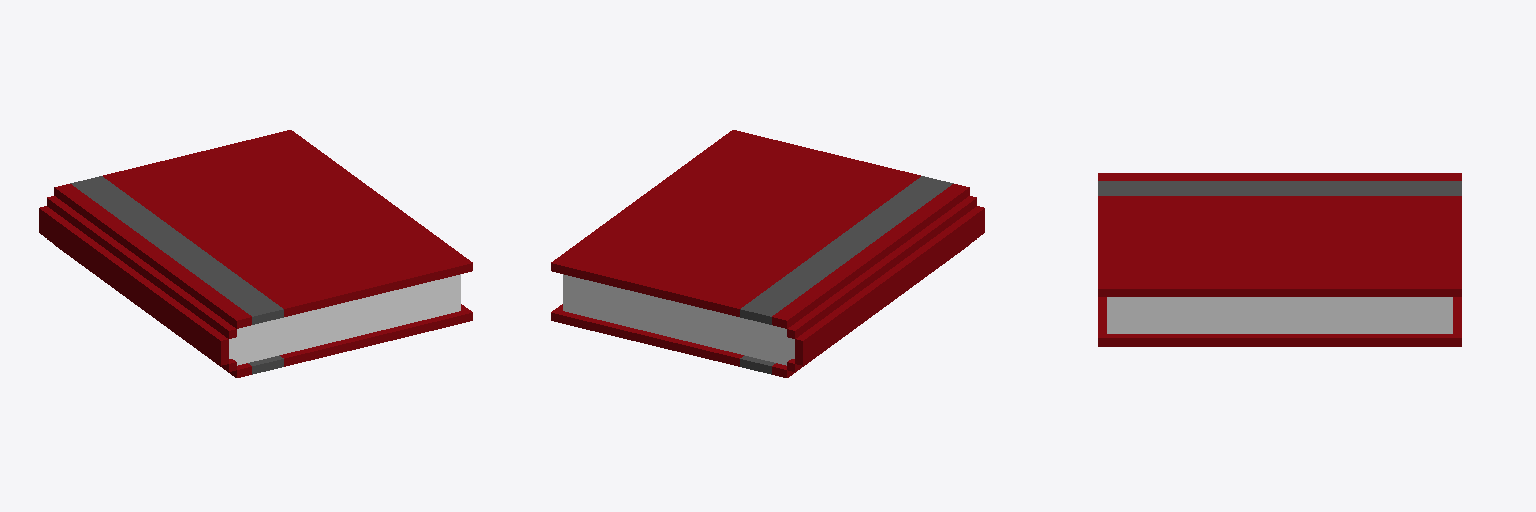
Rendered from Book02.obj.
The picture shows the model from 3 angles: view 1: azimuth 30°, elevation 25°; view 2: azimuth 150°, elevation 25°; view 3: azimuth 270°, elevation 25°; orthographic projection.
Parts seen in each view (by area): view 1: Book02; view 2: Book02; view 3: Book02.
Boxes of the visible parts, x1=… form: Book02: x1=39, y1=130, x2=472, y2=377; Book02: x1=551, y1=130, x2=984, y2=377; Book02: x1=1098, y1=173, x2=1461, y2=346.
Bounding box in the file's own units: 2 × 0.4375 × 2.5.